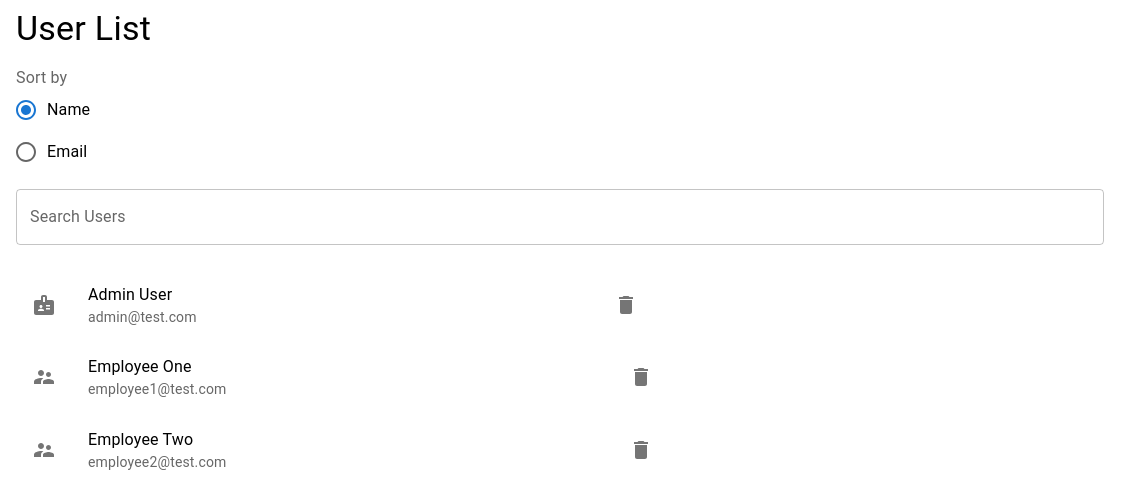
Test: UserEmployeeListLeicht Component › filters users based on search input
The width and height of the screenshot is (1121, 487).
In the field labelled "Search Users": {"x": 560, "y": 218} left=16, top=190, right=1104, bottom=246, type "Employee"
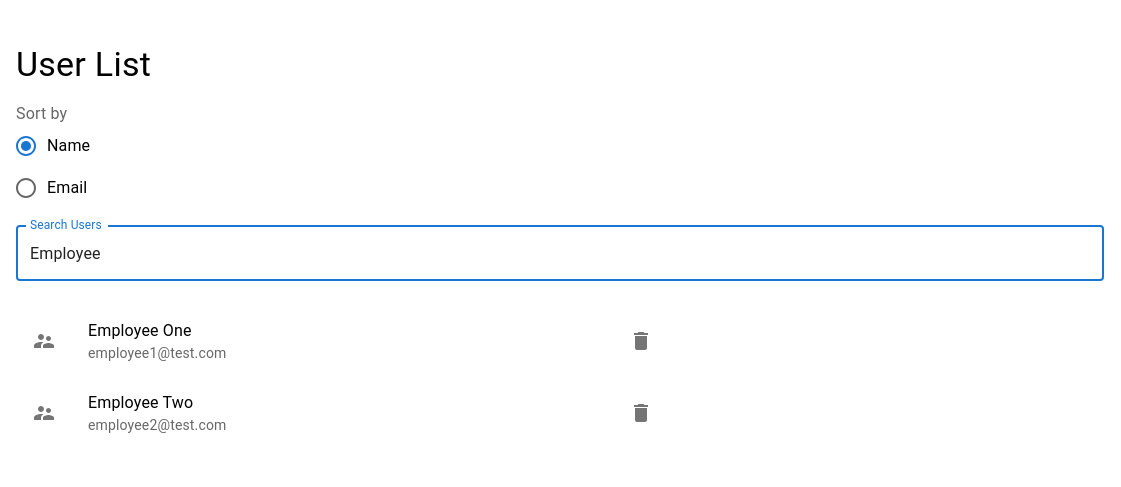
Expected: the number of list items is 2, left=32, top=322, right=653, bottom=362; left=32, top=394, right=653, bottom=434
